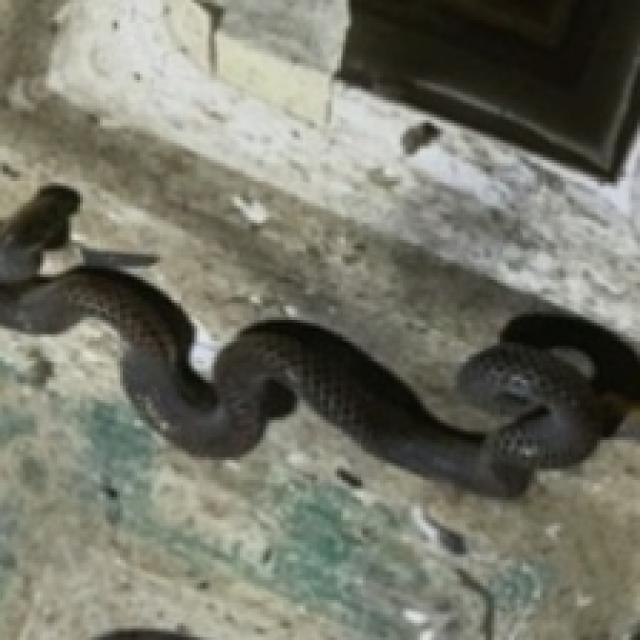gervais worm snake: (0, 186, 637, 494), (0, 266, 637, 494)
